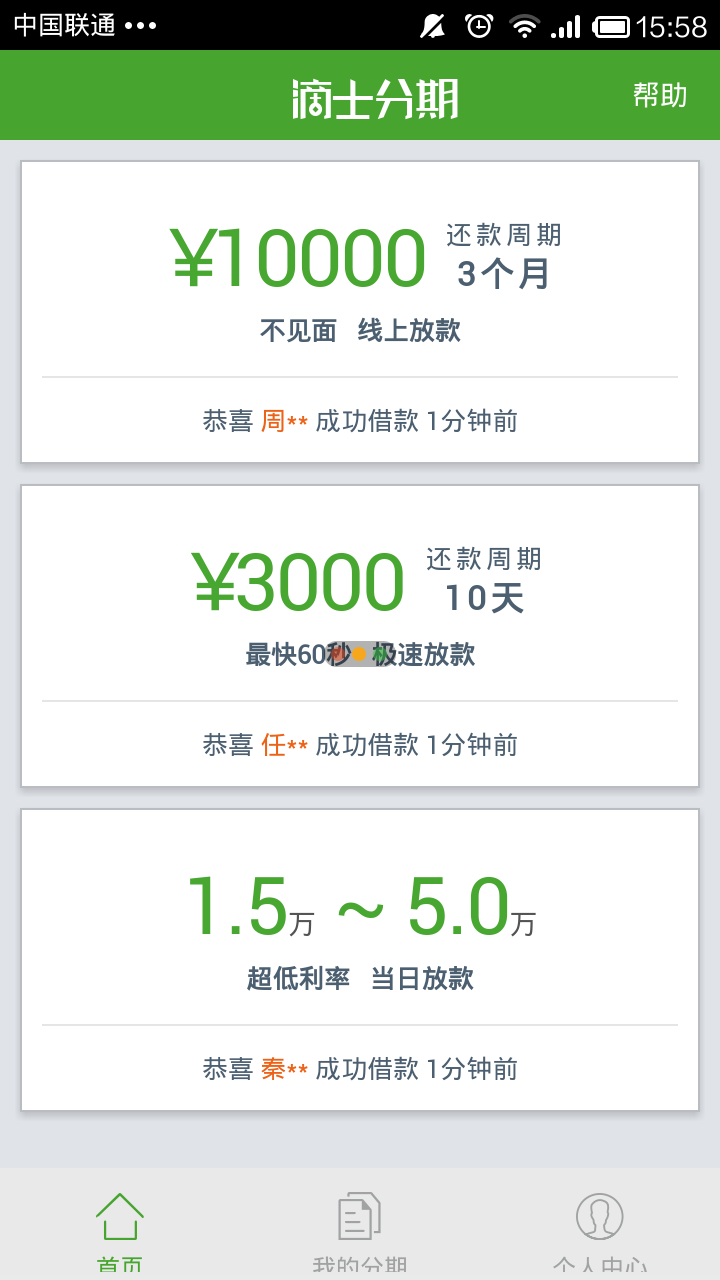nav: (1, 1158, 719, 1280)
textview: (13, 475, 710, 796), (14, 800, 705, 1122), (13, 153, 701, 471)
